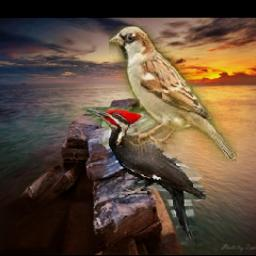Sparrow: (109, 26, 237, 161)
Woodpecker: (82, 108, 206, 246)
